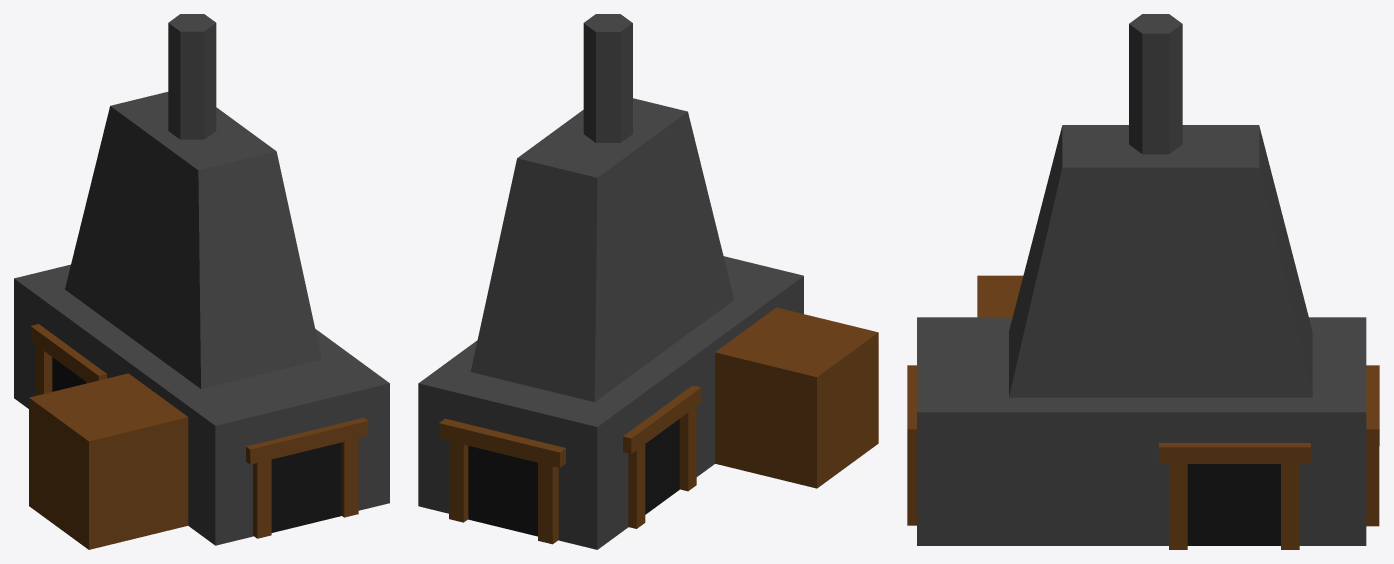
Rendered from Furnace.glb.
The picture shows the model from 3 angles, left to right: view 1: azimuth 30°, elevation 25°; view 2: azimuth 150°, elevation 25°; view 3: azimuth 270°, elevation 25°; orthographic projection. The views are drawn at different scales.
Visible parts, largest first — view 1: Cube.004; view 2: Cube.004; view 3: Cube.004.
Boxes of the visible parts, x1,y1,x2,y2 form: Cube.004: [14, 14, 389, 549]; Cube.004: [418, 14, 878, 549]; Cube.004: [907, 14, 1379, 549].
Size of the model in its own units: 3.24 by 4.65 by 4.2.
